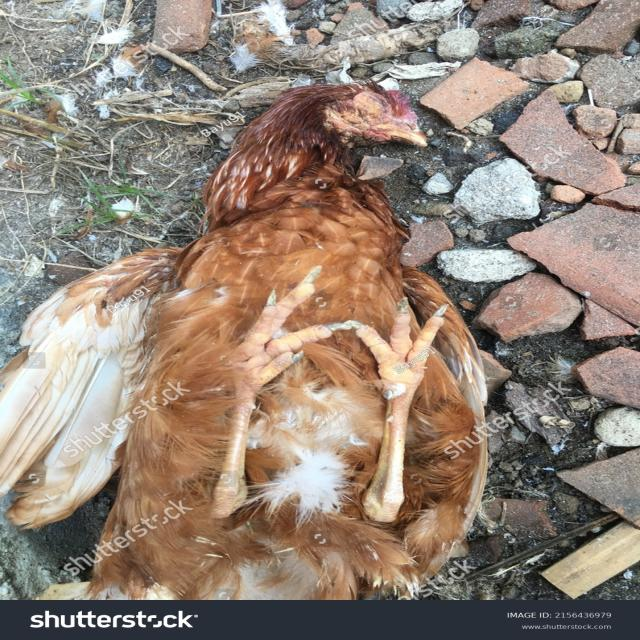Unhealthy: (40, 74, 500, 594)
